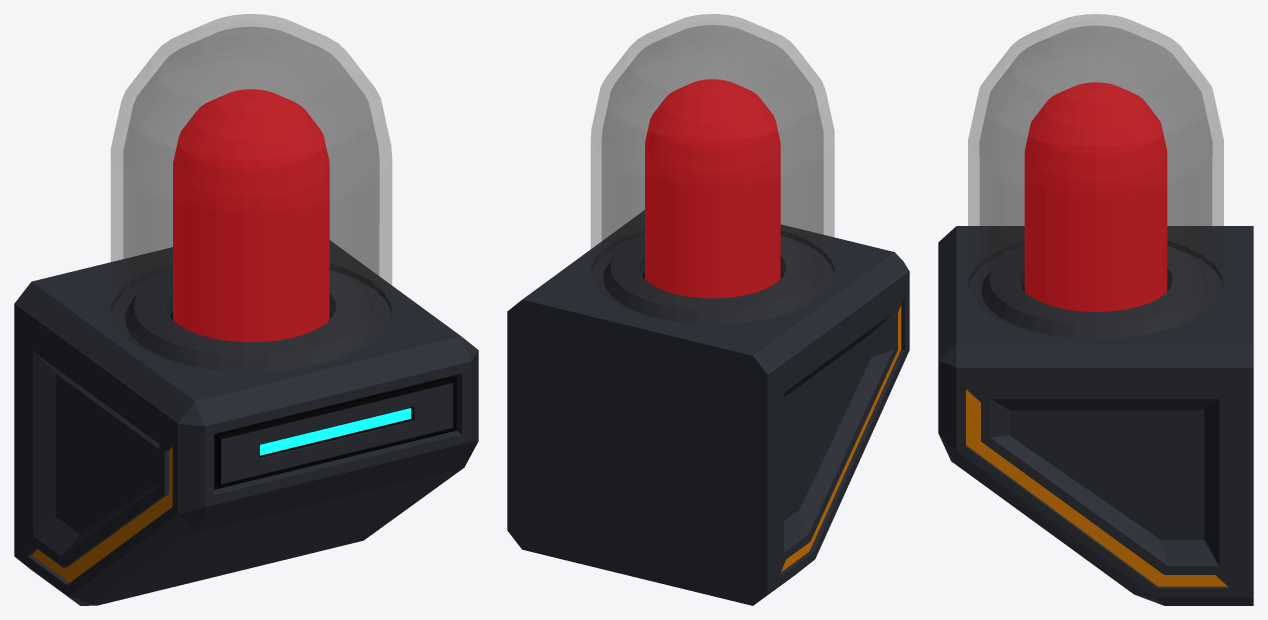
Rendered from SM_Warning_Light.fbx.
The picture shows the model from 3 angles, left to right: view 1: azimuth 30°, elevation 25°; view 2: azimuth 150°, elevation 25°; view 3: azimuth 270°, elevation 25°; orthographic projection. The views are drawn at different scales.
Visible parts, largest first — view 1: SM_Warning_Light; view 2: SM_Warning_Light; view 3: SM_Warning_Light.
Part boxes in pixels (left/top/right/bottom): SM_Warning_Light: left=14, top=14, right=478, bottom=605; SM_Warning_Light: left=507, top=14, right=909, bottom=605; SM_Warning_Light: left=938, top=14, right=1253, bottom=605.
Bounding box in the file's own units: 24.6 × 44.85 × 24.6.
